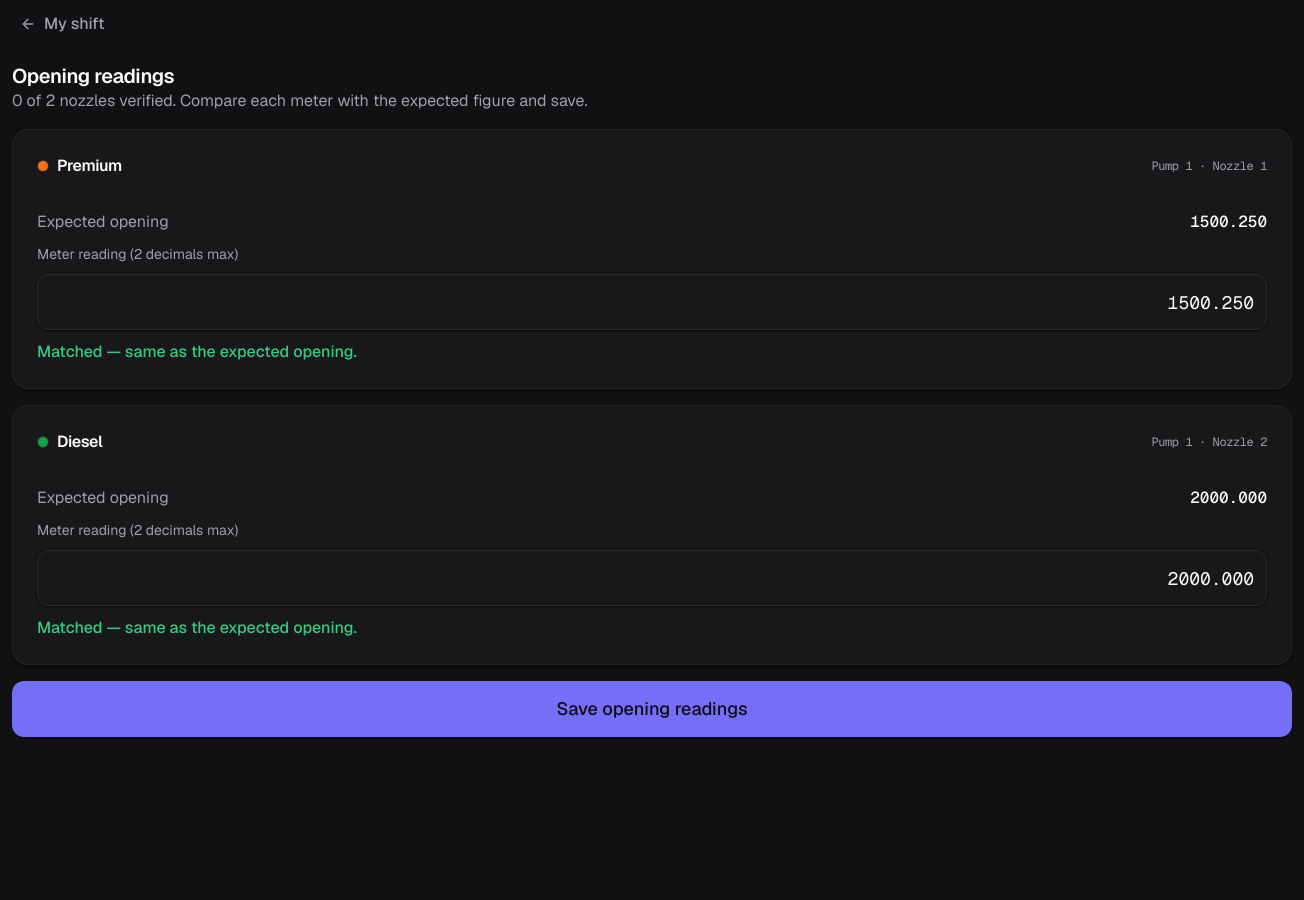
Test case: OpeningReadingsPage › flags a HIGHER reading as a warning with the exact difference, still submittable
The image size is (1304, 900).
Replace the text in the field labelled "Meter reading (2 decimals max)" below "1500.250" with "1510.25": (652, 302) [37,274,1267,330]
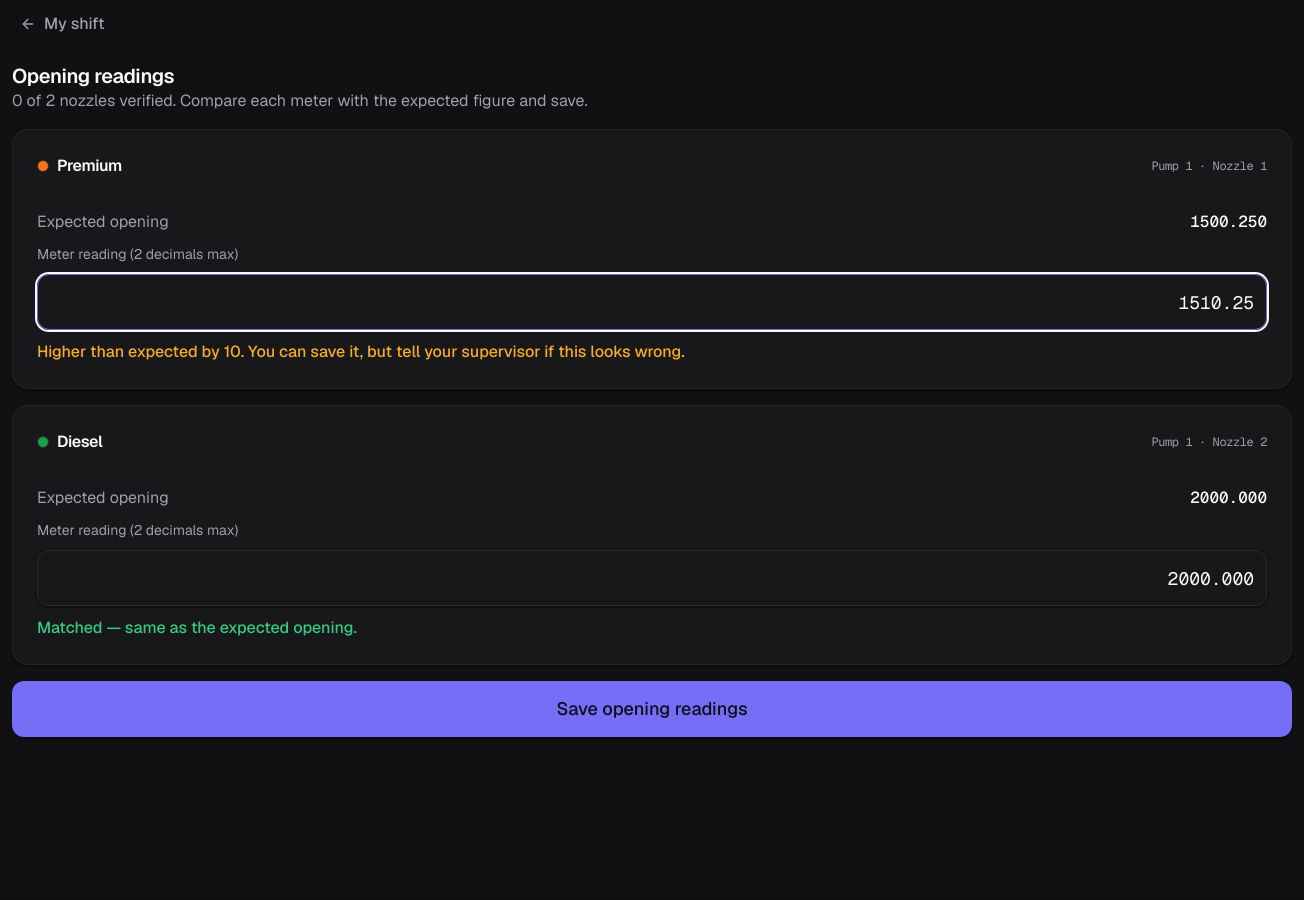
expect the button "Save opening readings" is enabled: met, box [12,681,1292,737]
expect the text "Higher than expected by 10" is shown: met, box [37,341,685,362]
